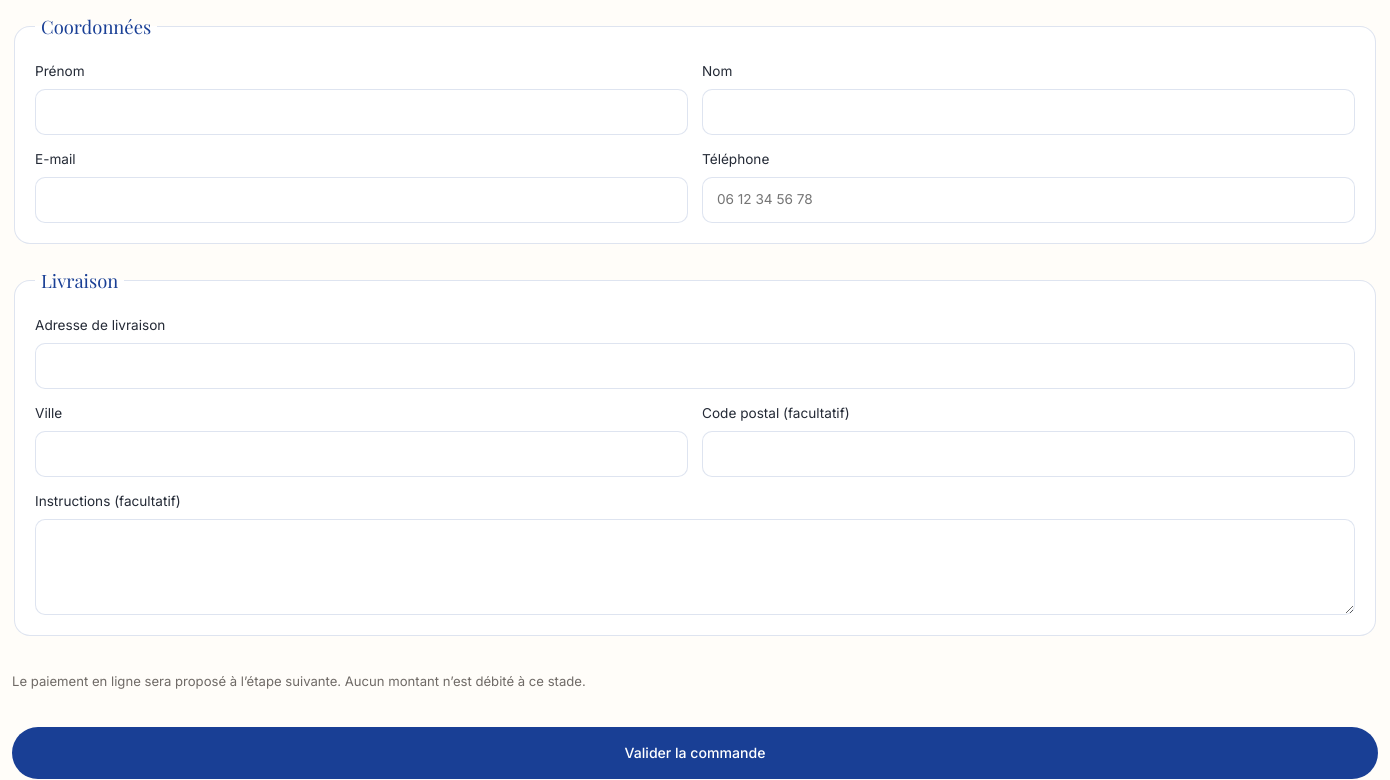
Test: checkout form › reports that online ordering is not open yet
This screenshot has width=1390, height=780.
Step 1. Type "Salma" into the field labelled "Prénom" → {"x": 362, "y": 112}, box x1=35 y1=89 x2=688 y2=135
Step 2. Type "Bennani" into the field labelled "Nom" → {"x": 1028, "y": 112}, box x1=702 y1=89 x2=1355 y2=135
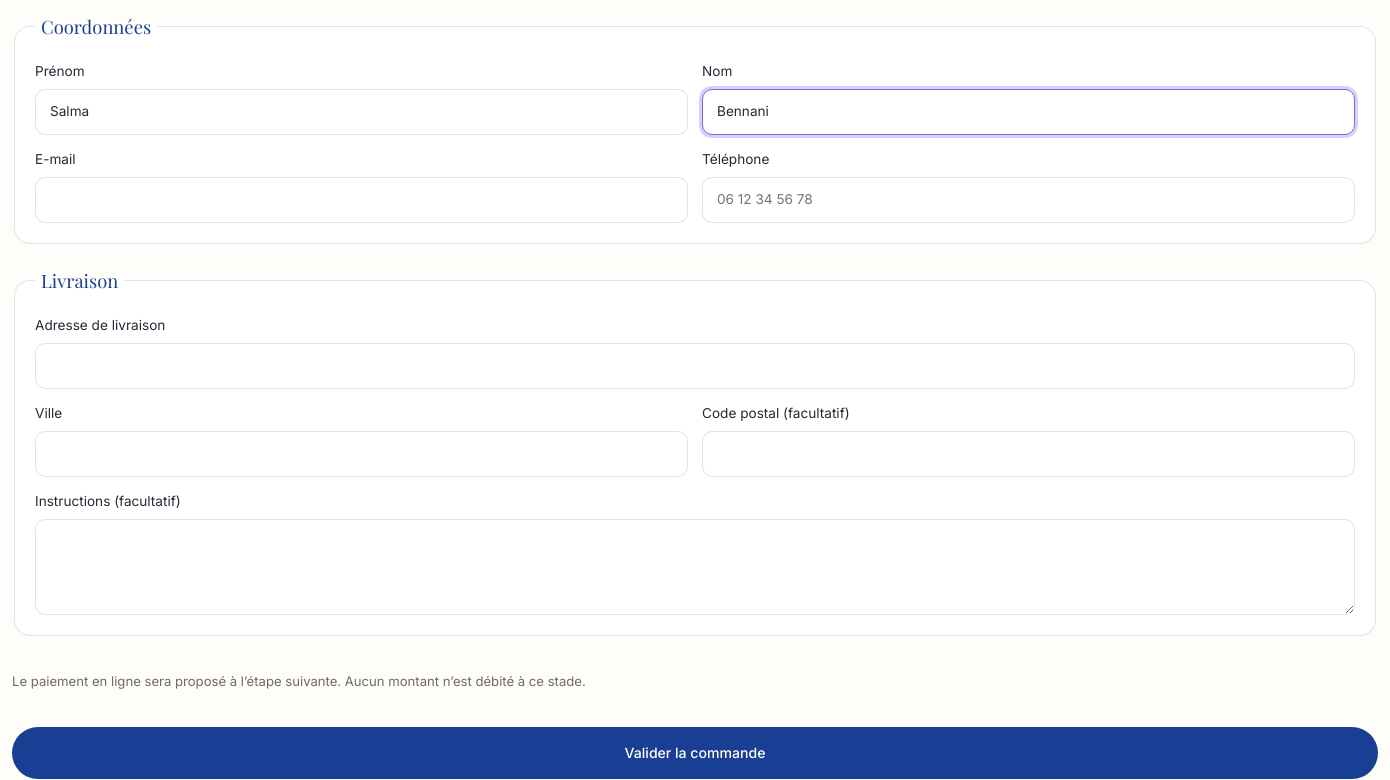
Step 3. Type "salma@example.ma" into the field labelled "E-mail" → {"x": 362, "y": 200}, box x1=35 y1=177 x2=688 y2=223
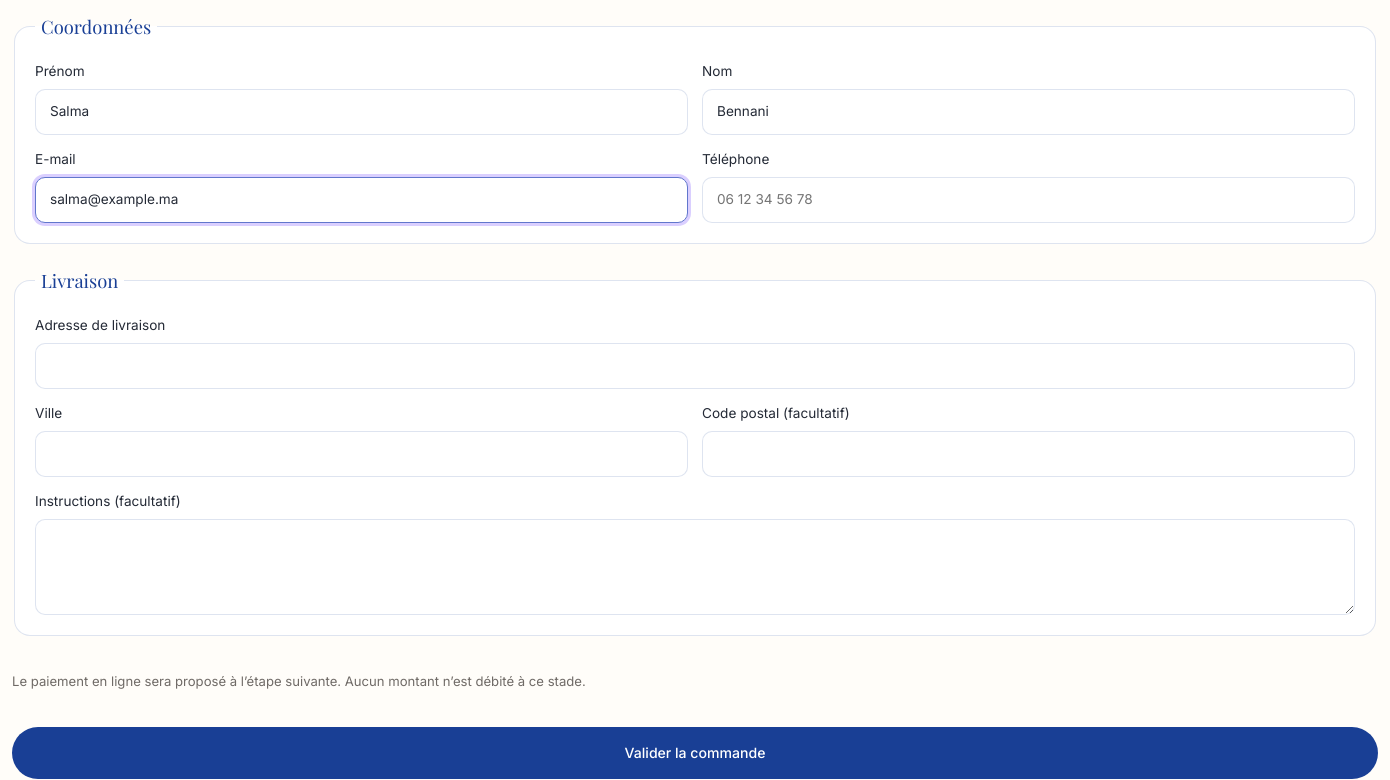
Step 4. Type "0612345678" into the field labelled "Téléphone" → {"x": 1028, "y": 200}, box x1=702 y1=177 x2=1355 y2=223
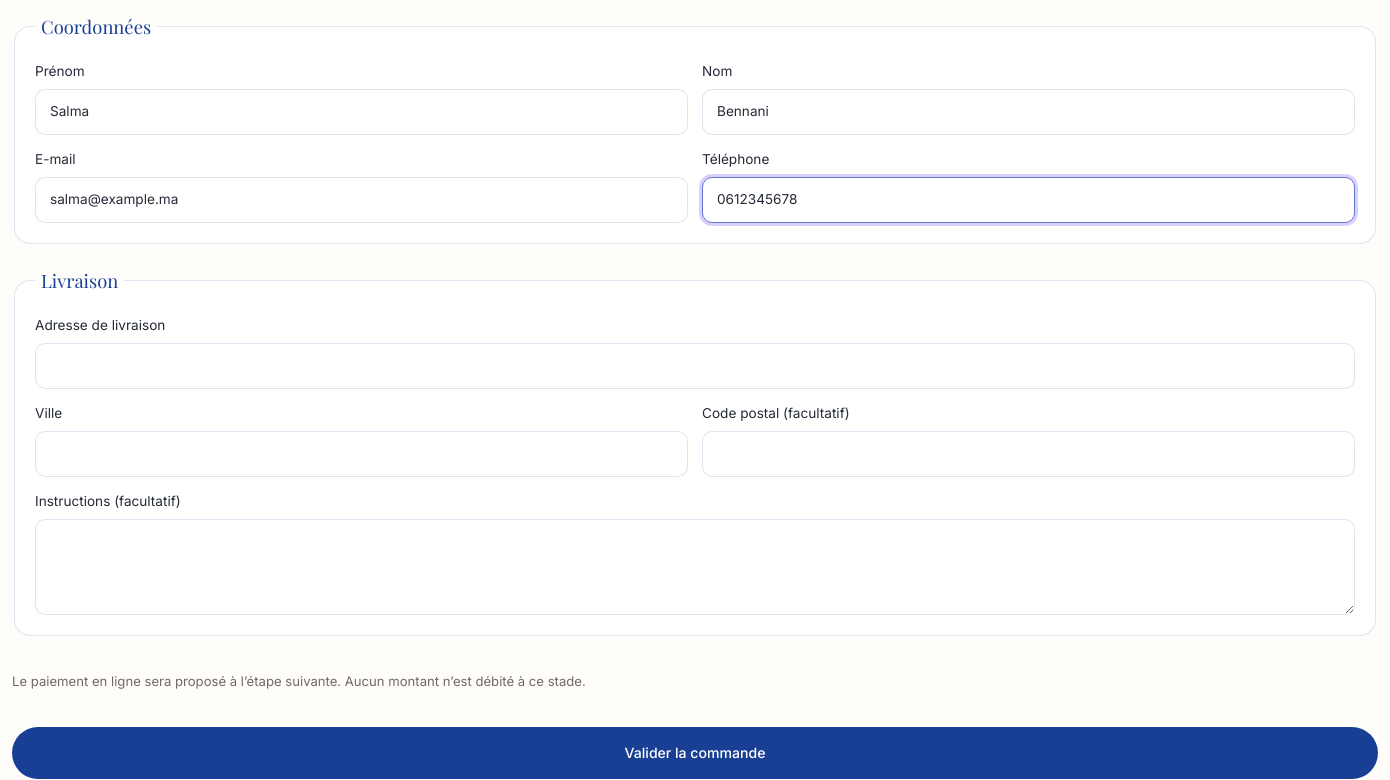
Step 5. Type "12 rue des Orangers" into the field labelled "Adresse de livraison" → {"x": 695, "y": 366}, box x1=35 y1=343 x2=1355 y2=389
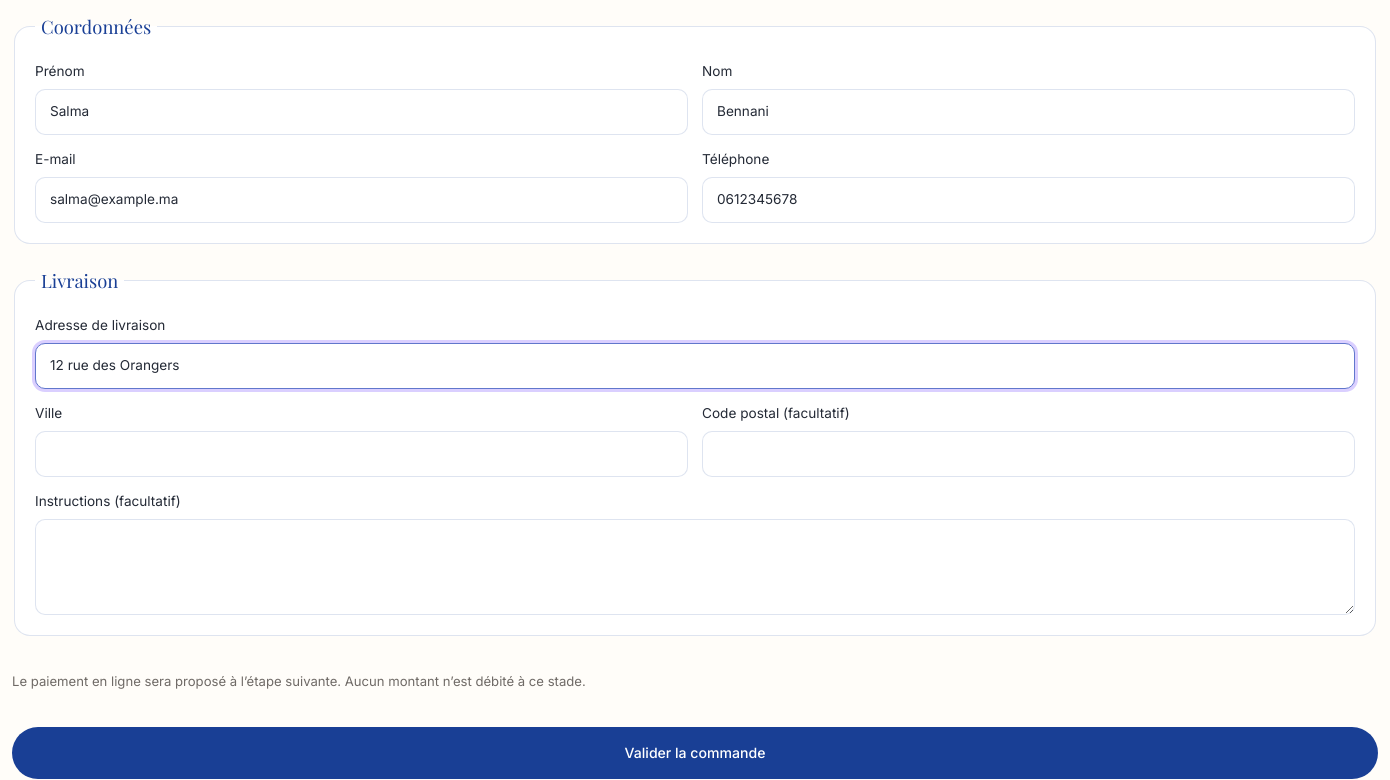
Step 6. Type "Casablanca" into the field labelled "Ville" → {"x": 362, "y": 454}, box x1=35 y1=431 x2=688 y2=477
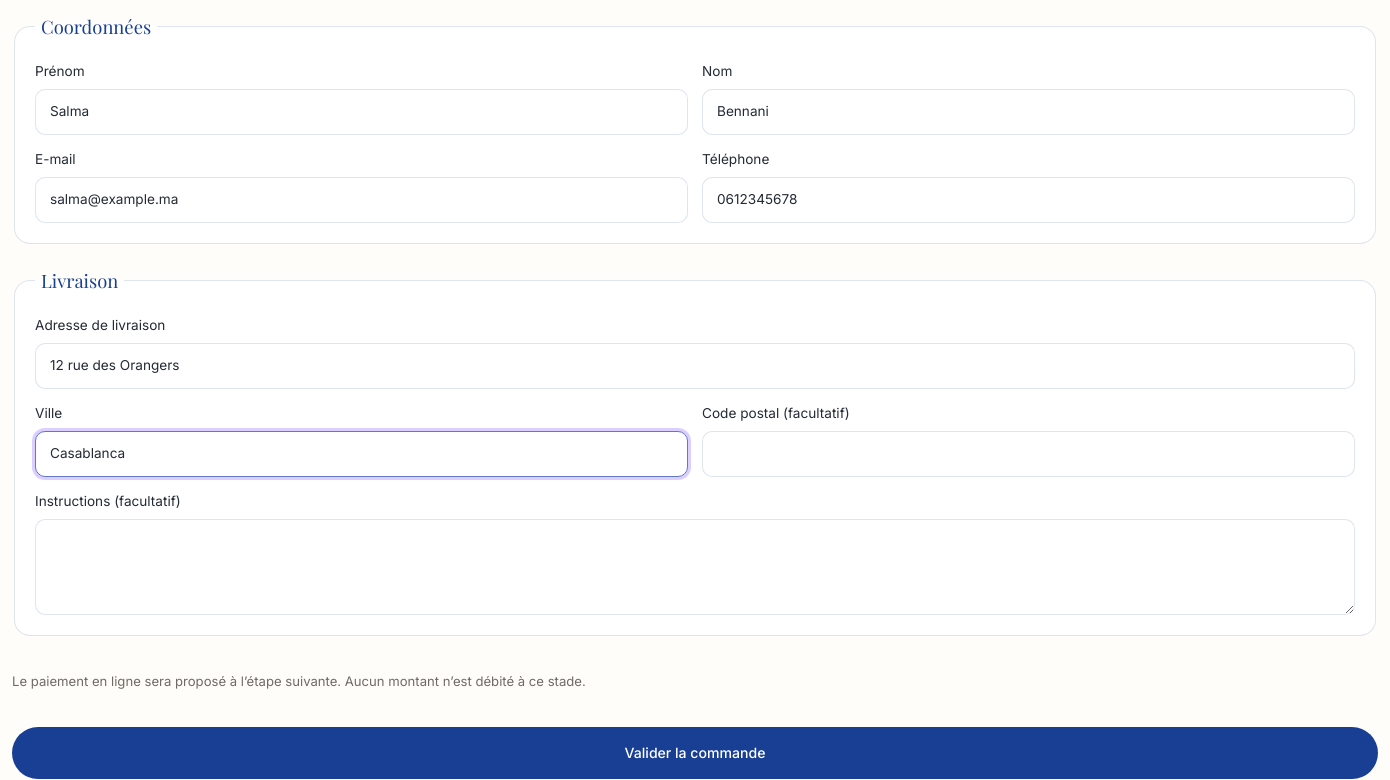
Step 7. Click the button "Valider la commande" → {"x": 695, "y": 753}, box x1=12 y1=727 x2=1378 y2=779
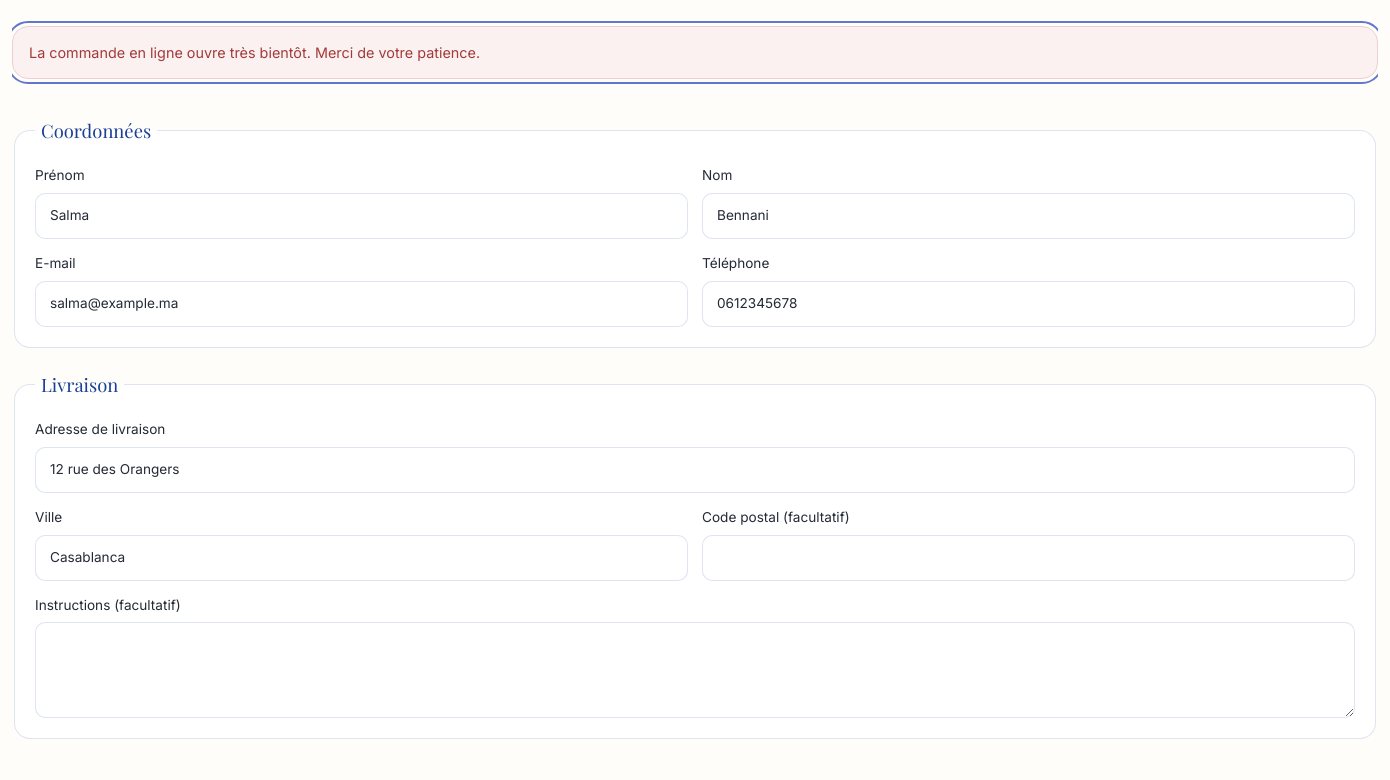
Expected: the message shows "ouvre très bientôt", x1=29 y1=44 x2=480 y2=61
